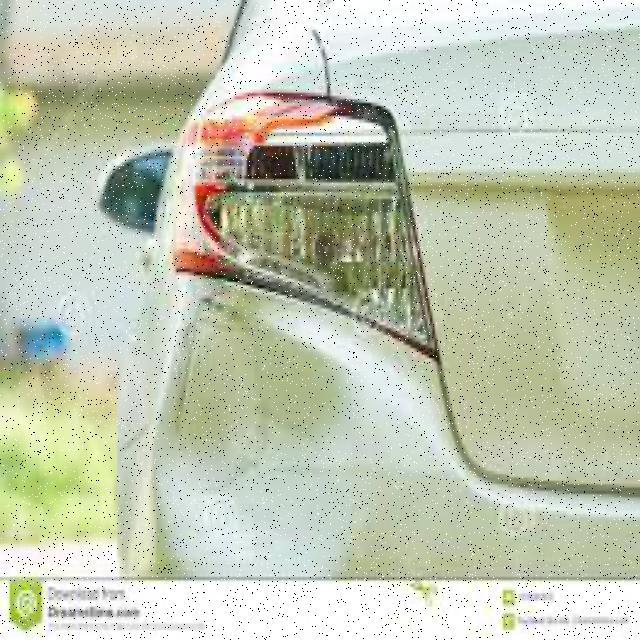rear-bumper-dent: (73, 275, 638, 584)
